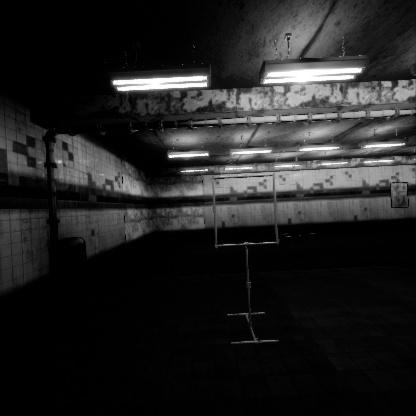gate: (211, 167, 284, 242)
